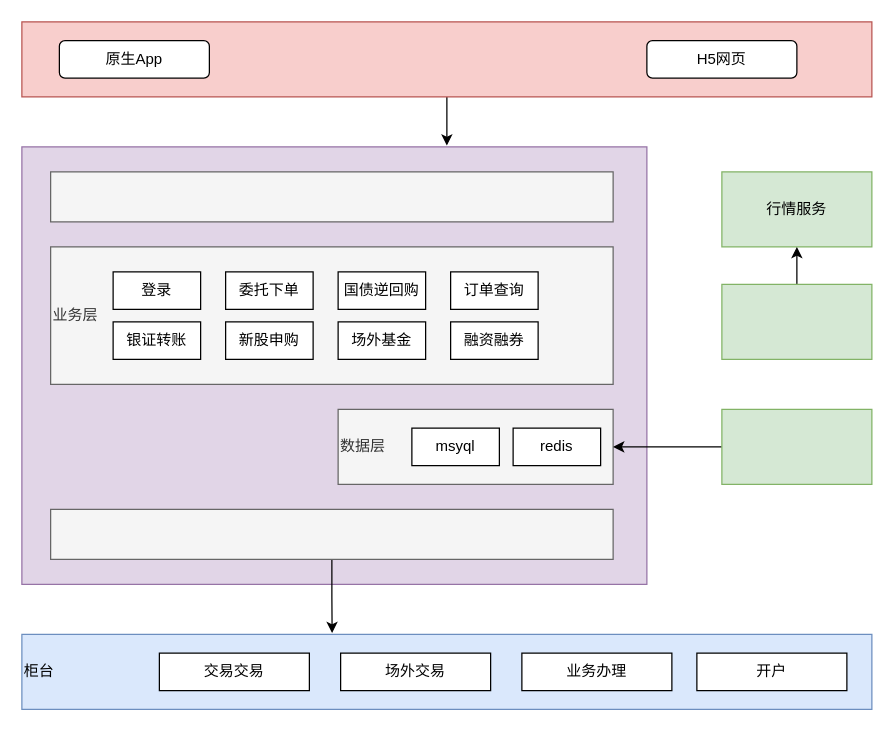
Some shapes in this 894 by 731 pixel diagram are drawn without their labels. The shapes that lost their labels are listed below. From the top down, each one's centre as x and y in pixels, then its label:
At (331,196): "交易统一网关接入层（加解密，统一登录验证，熔断、降级、限流）".
At (796,321): "同步服务".
At (796,446): "交易配置服务".
At (331,533): "柜台通信程序对接层".
